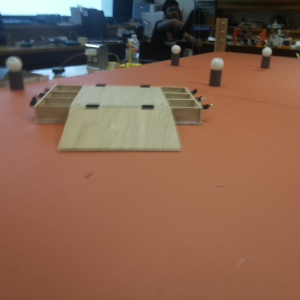obstacle: (8, 56, 24, 92), (206, 58, 224, 87), (257, 47, 273, 69), (171, 45, 183, 68)
side: (33, 83, 73, 120), (173, 86, 201, 124)
slope: (73, 104, 170, 156)
